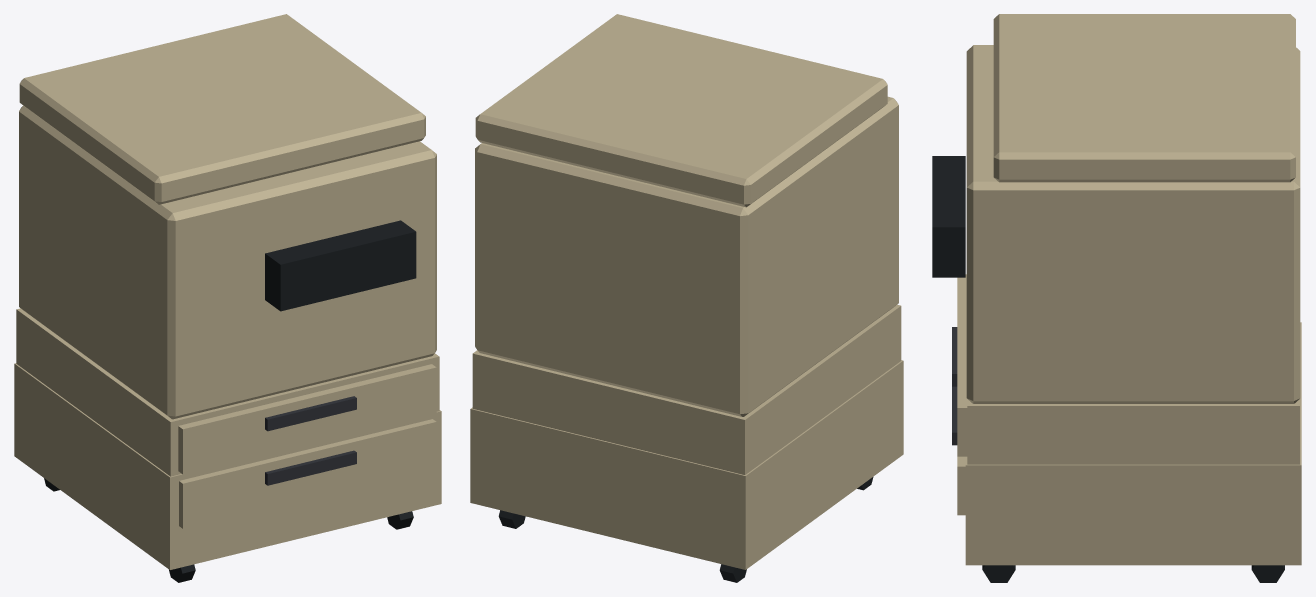
The model's file is printer-copier-04.glb.
3 renders of one model, left to right at view 1: azimuth 30°, elevation 25°; view 2: azimuth 150°, elevation 25°; view 3: azimuth 270°, elevation 25°, orthographic. The views are drawn at different scales.
Parts seen in each view (by area): view 1: printer_copier_04; view 2: printer_copier_04; view 3: printer_copier_04.
Part boxes in pixels (left/top/right/bottom): printer_copier_04: left=14, top=14, right=441, bottom=582; printer_copier_04: left=470, top=14, right=903, bottom=582; printer_copier_04: left=932, top=14, right=1301, bottom=582.
Bounding box in the file's own units: 0.6089 × 0.8719 × 0.6647.
